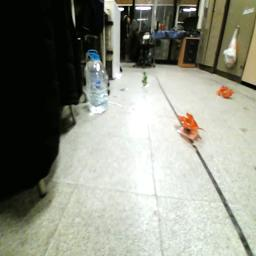herb: (142, 72, 149, 88)
wild: (177, 113, 207, 134), (218, 85, 237, 100)
